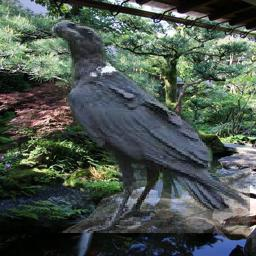Crow: (46, 17, 250, 234)
